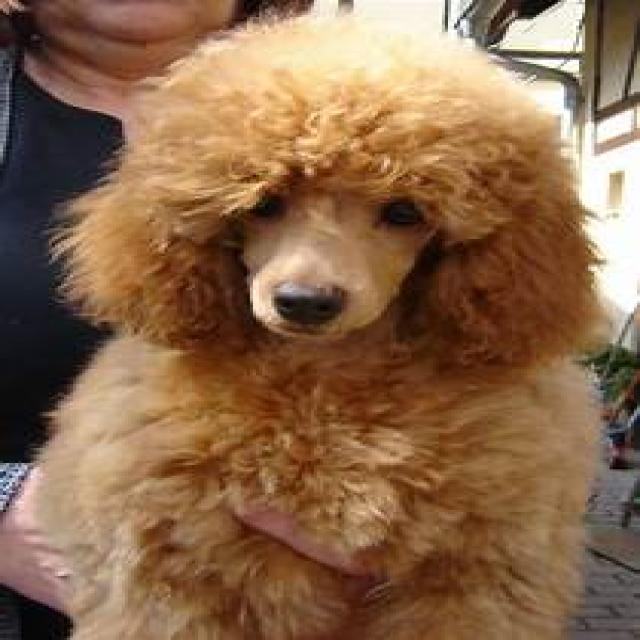KOPEK: (34, 18, 608, 640)
